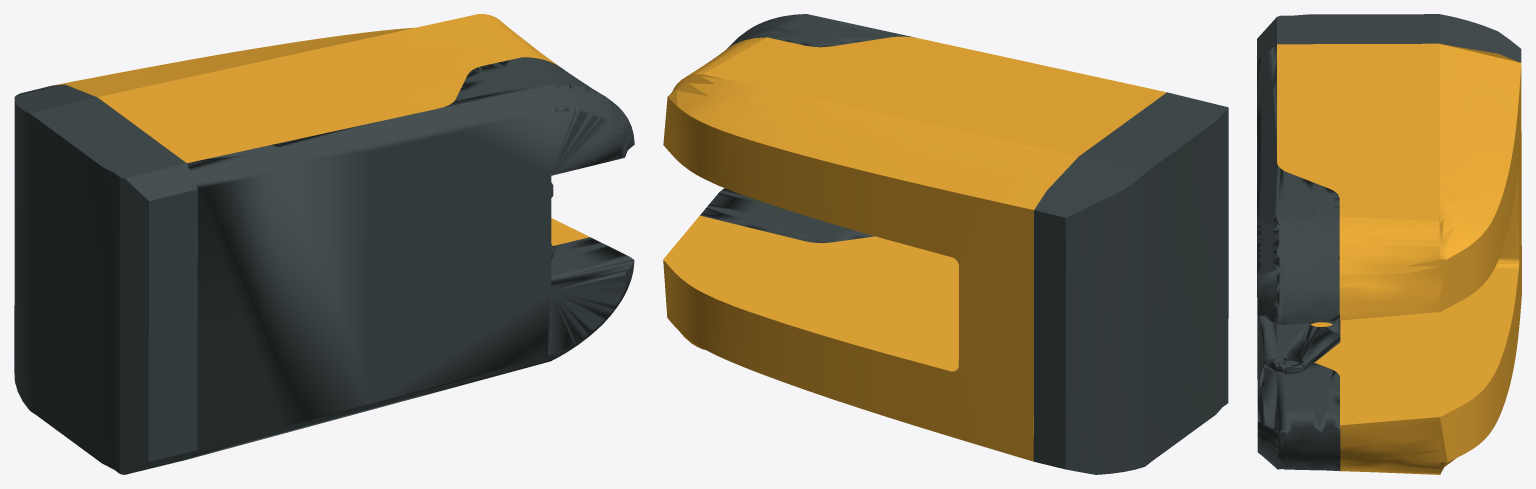
The picture shows the model from 3 angles, left to right: view 1: azimuth 30°, elevation 25°; view 2: azimuth 150°, elevation 25°; view 3: azimuth 270°, elevation 25°; orthographic projection. The views are drawn at different scales.
Visible parts, largest first — view 1: object_1 (×10); view 2: object_1 (×11); view 3: object_1 (×13).
Boxes of the visible parts, bbox=[...] form: object_1 (×10): bbox=[14, 14, 634, 474]; object_1 (×11): bbox=[663, 14, 1228, 474]; object_1 (×13): bbox=[1257, 14, 1521, 474].
Size of what is drawn, in the model's own units: 140 by 68.69 by 77.23.
